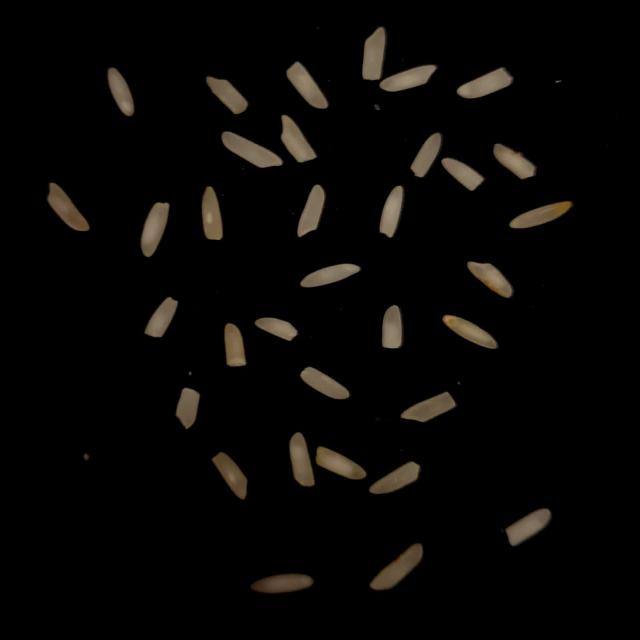Broken: (287, 60, 329, 108), (505, 507, 553, 546), (455, 67, 513, 99), (398, 391, 456, 423), (280, 116, 318, 164), (212, 449, 248, 498), (492, 142, 536, 180), (369, 462, 421, 494), (205, 76, 248, 113), (440, 158, 485, 191), (411, 132, 443, 177), (144, 297, 178, 338), (362, 26, 385, 79), (175, 388, 201, 430), (255, 316, 298, 341), (224, 323, 246, 367), (382, 306, 402, 350)
Full: (369, 543, 423, 591), (221, 132, 283, 168), (47, 182, 90, 231), (442, 313, 498, 349), (508, 201, 572, 229), (466, 261, 513, 298), (300, 366, 350, 400), (315, 447, 366, 480), (379, 64, 438, 92), (140, 202, 169, 258), (297, 184, 325, 238), (301, 264, 362, 288), (288, 432, 313, 487), (250, 573, 314, 594), (379, 186, 404, 238), (108, 66, 134, 116), (202, 186, 224, 240)
